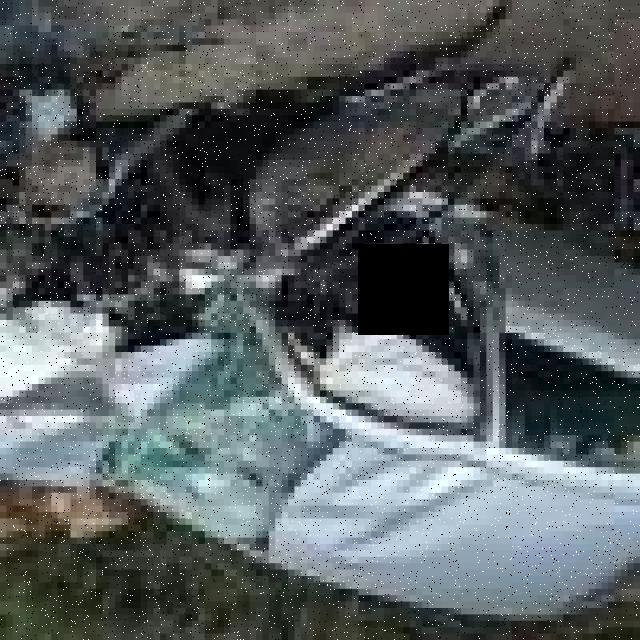severe: (6, 58, 634, 614)
